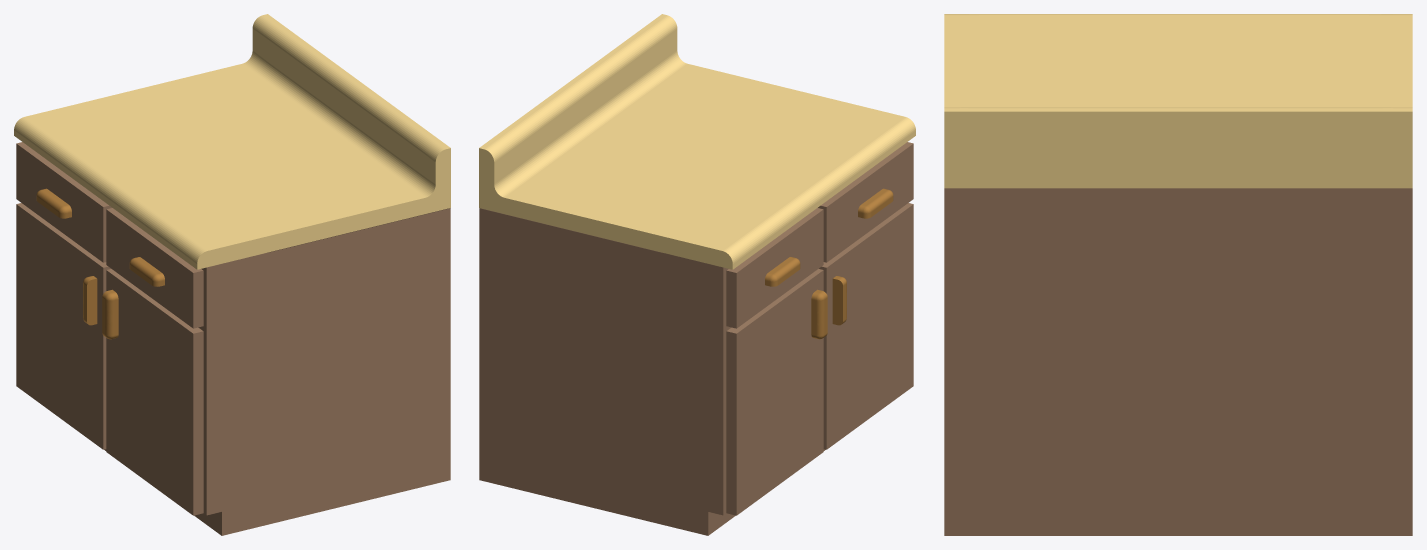
Rendered from counter1-1.fbx.
3 renders of one model, left to right at view 1: azimuth 30°, elevation 25°; view 2: azimuth 150°, elevation 25°; view 3: azimuth 270°, elevation 25°, orthographic. The views are drawn at different scales.
Parts seen in each view (by area): view 1: counter; view 2: counter; view 3: counter.
Boxes of the visible parts, left/top/right/bottom form: counter: left=14, top=14, right=450, bottom=535; counter: left=479, top=14, right=915, bottom=535; counter: left=944, top=14, right=1412, bottom=535.
Bounding box in the file's own units: 501 × 600 × 600.
